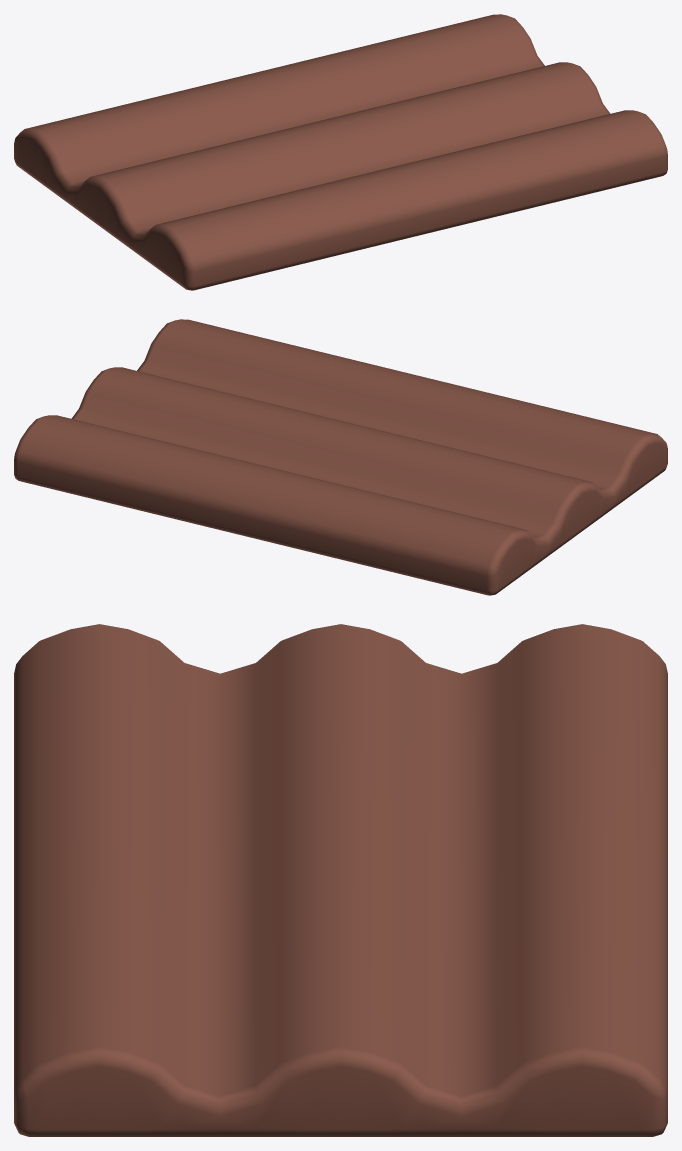
File: Farm_4_Garden_1.glb
The picture shows the model from 3 angles, top to bottom: view 1: azimuth 30°, elevation 25°; view 2: azimuth 150°, elevation 25°; view 3: azimuth 270°, elevation 25°; orthographic projection. The views are drawn at different scales.
Visible parts, largest first — view 1: Farm_4_Garden_1; view 2: Farm_4_Garden_1; view 3: Farm_4_Garden_1.
Part boxes in pixels (x1=…): Farm_4_Garden_1: x1=14, y1=14, x2=667, y2=290; Farm_4_Garden_1: x1=14, y1=319, x2=667, y2=595; Farm_4_Garden_1: x1=14, y1=624, x2=667, y2=1136.
Bounding box in the file's own units: 3.54 × 0.3405 × 2.25.
1 material, 1 textured.
